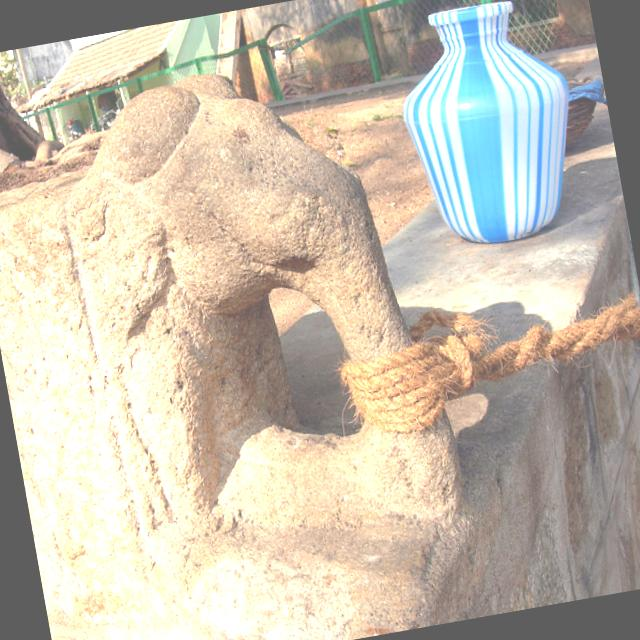Vehicle: (64, 114, 86, 144)
